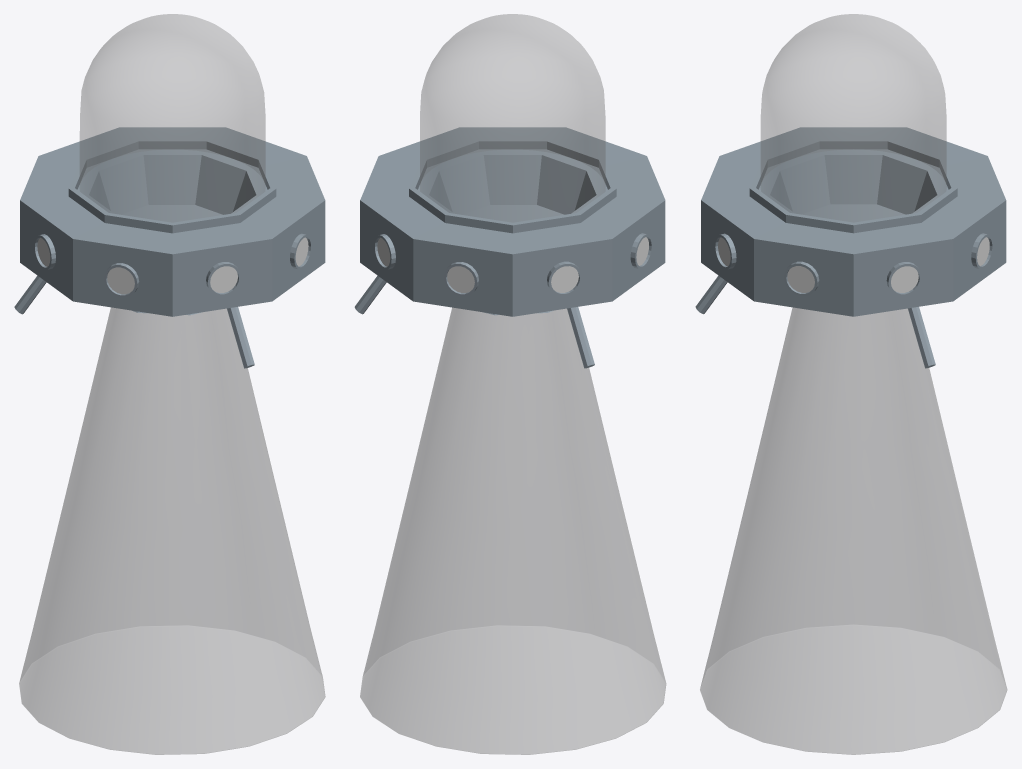
3 renders of one model, left to right at view 1: azimuth 30°, elevation 25°; view 2: azimuth 150°, elevation 25°; view 3: azimuth 270°, elevation 25°, orthographic.
Visible parts, largest first — view 1: BeamRay, Ship_Body, Kupol, Lights, Ship_Leg1; view 2: BeamRay, Ship_Body, Kupol, Lights, Ship_leg3; view 3: BeamRay, Ship_Body, Kupol, Lights, Ship_leg2.
Part boxes in pixels (bbox=[...]): BeamRay: bbox=[19, 307, 325, 754]; Ship_Body: bbox=[20, 127, 325, 316]; Kupol: bbox=[80, 14, 265, 222]; Lights: bbox=[37, 237, 308, 294]; Ship_Leg1: bbox=[227, 307, 254, 368]; BeamRay: bbox=[360, 307, 666, 754]; Ship_Body: bbox=[360, 127, 665, 316]; Kupol: bbox=[420, 14, 605, 222]; Lights: bbox=[377, 237, 648, 292]; Ship_leg3: bbox=[567, 307, 594, 368]; BeamRay: bbox=[700, 307, 1007, 754]; Ship_Body: bbox=[701, 127, 1006, 316]; Kupol: bbox=[761, 14, 946, 222]; Lights: bbox=[718, 237, 989, 292]; Ship_leg2: bbox=[908, 307, 935, 368].
Bounding box in the file's own units: 4.61 × 10.98 × 4.65.
